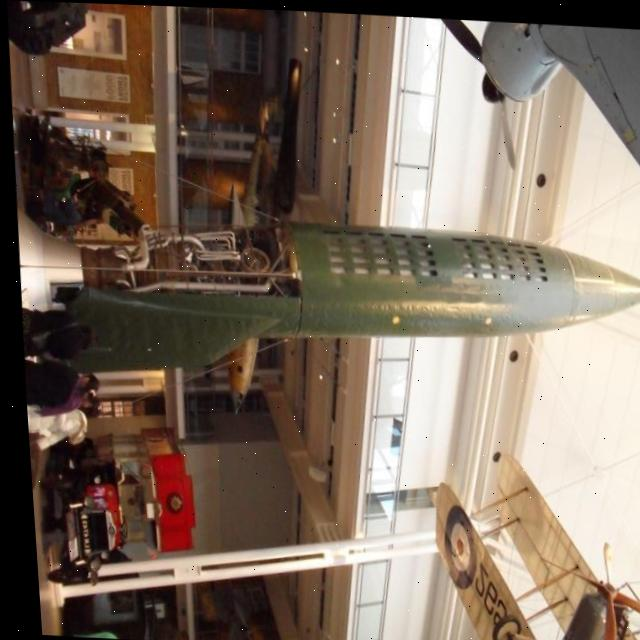missile: (21, 187, 640, 401)
